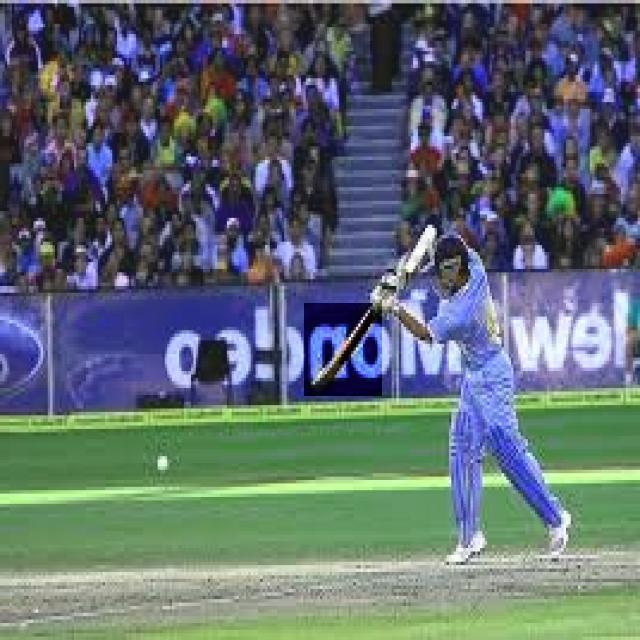bat: (307, 310, 395, 384)
